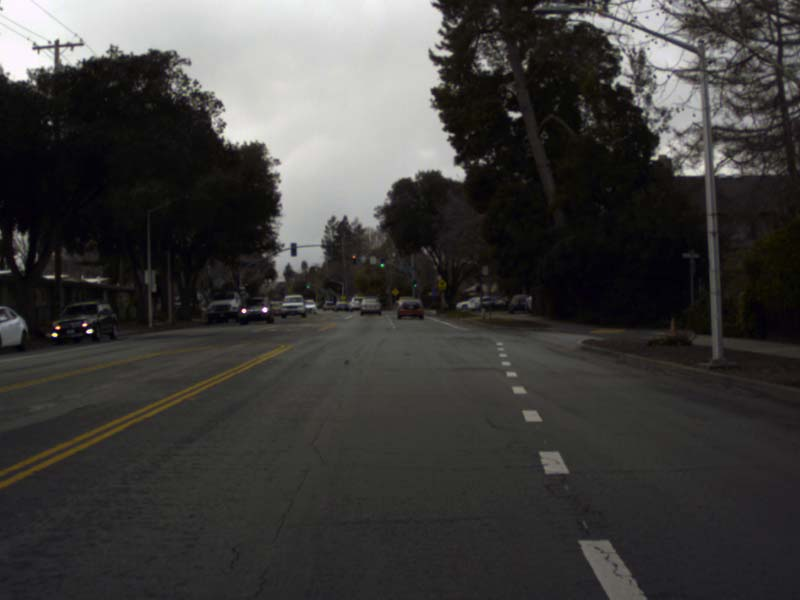Green: (380, 258, 383, 267), (414, 280, 416, 287), (307, 282, 309, 287)
Red: (352, 255, 355, 265)
